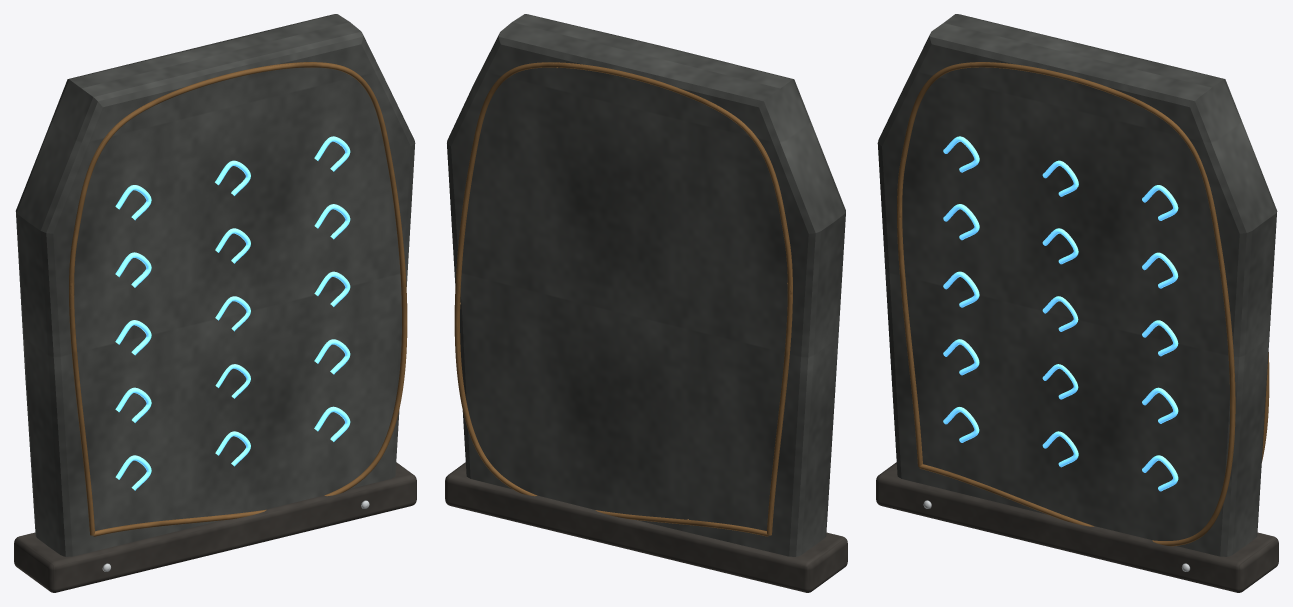
Rendered from rune-tablet.glb.
3 views of the same model, side by side, from view 1: azimuth 30°, elevation 25°; view 2: azimuth 150°, elevation 25°; view 3: azimuth 330°, elevation 25° (orthographic).
Parts seen in each view (by area): view 1: stone / dressed slate, iron / hammer-scaled wrought iron, bronze / cast bronze with patina, energy / emissive field channel; view 2: stone / dressed slate, iron / hammer-scaled wrought iron, bronze / cast bronze with patina; view 3: stone / dressed slate, iron / hammer-scaled wrought iron, bronze / cast bronze with patina, energy / emissive field channel.
Part boxes in pixels (<box>): stone / dressed slate: <box>15,14,415,556</box>; iron / hammer-scaled wrought iron: <box>14,462,416,592</box>; bronze / cast bronze with patina: <box>69,62,407,536</box>; energy / emissive field channel: <box>115,136,350,490</box>; stone / dressed slate: <box>447,14,845,556</box>; iron / hammer-scaled wrought iron: <box>445,462,847,592</box>; bronze / cast bronze with patina: <box>454,62,792,536</box>; stone / dressed slate: <box>877,14,1277,556</box>; iron / hammer-scaled wrought iron: <box>876,462,1278,592</box>; bronze / cast bronze with patina: <box>897,62,1269,546</box>; energy / emissive field channel: <box>943,136,1178,491</box>.
Bounding box in the file's own units: 0.3768 × 0.4634 × 0.0735.
6 materials, 4 textured.
